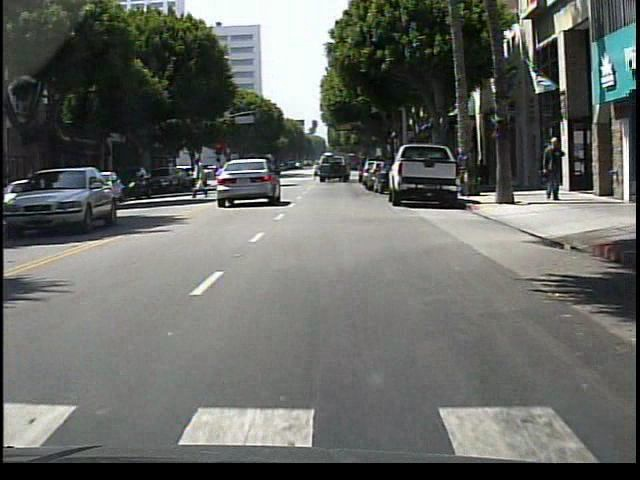person: (540, 135, 564, 201), (538, 145, 554, 199), (192, 156, 210, 200), (313, 161, 321, 182)
